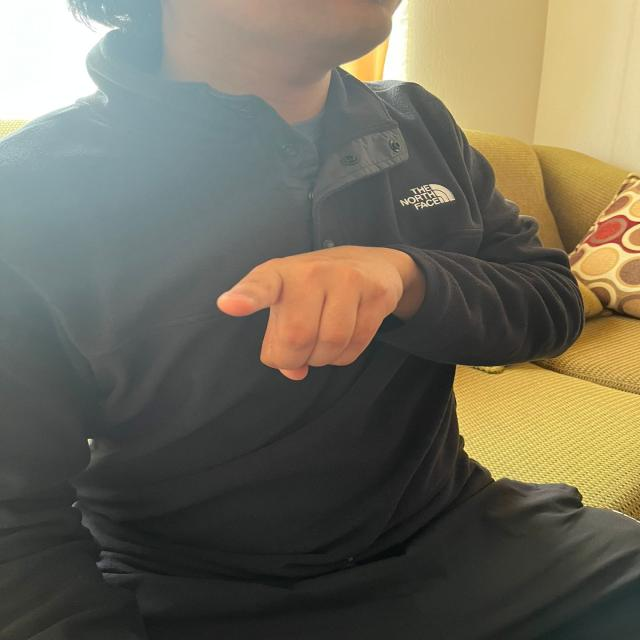X: (215, 236, 409, 391)
